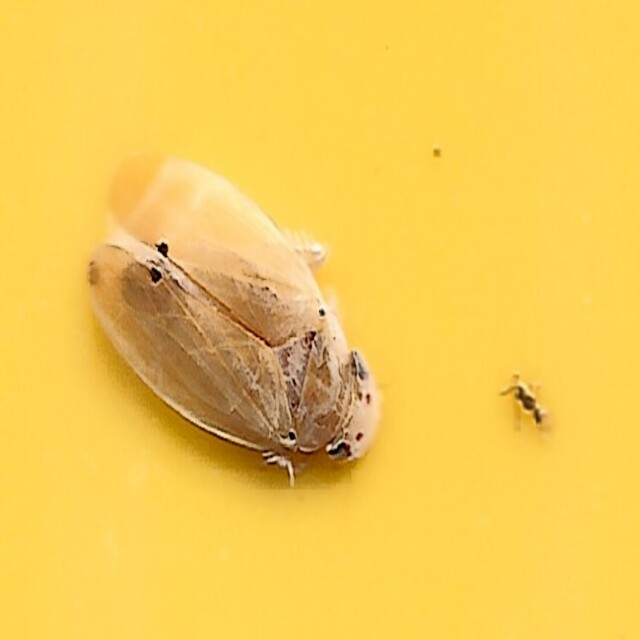Hemiptera: (87, 151, 383, 489)
Hymenoptera: (500, 376, 553, 434)
